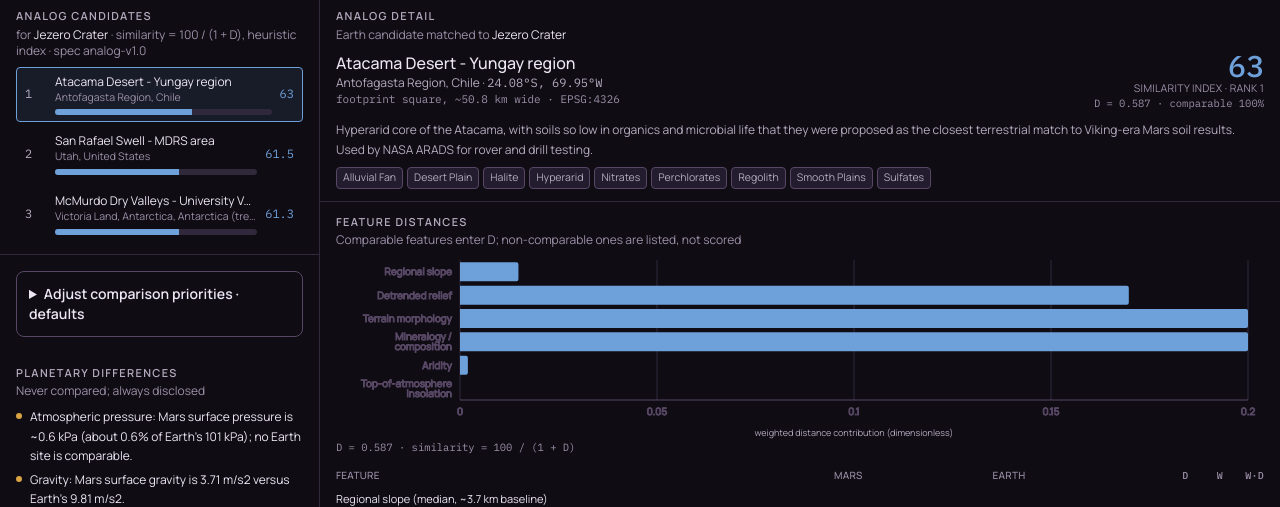
AnalogComparison research sections › separates documented analog use from proposed studies and never duplicates a campaign
The image size is (1280, 507).
Click the button "2 San Rafael Swell - MDRS area Utah, United States 61.5" at point(135, 141), box [16,126,303,182]
(page scrolled)
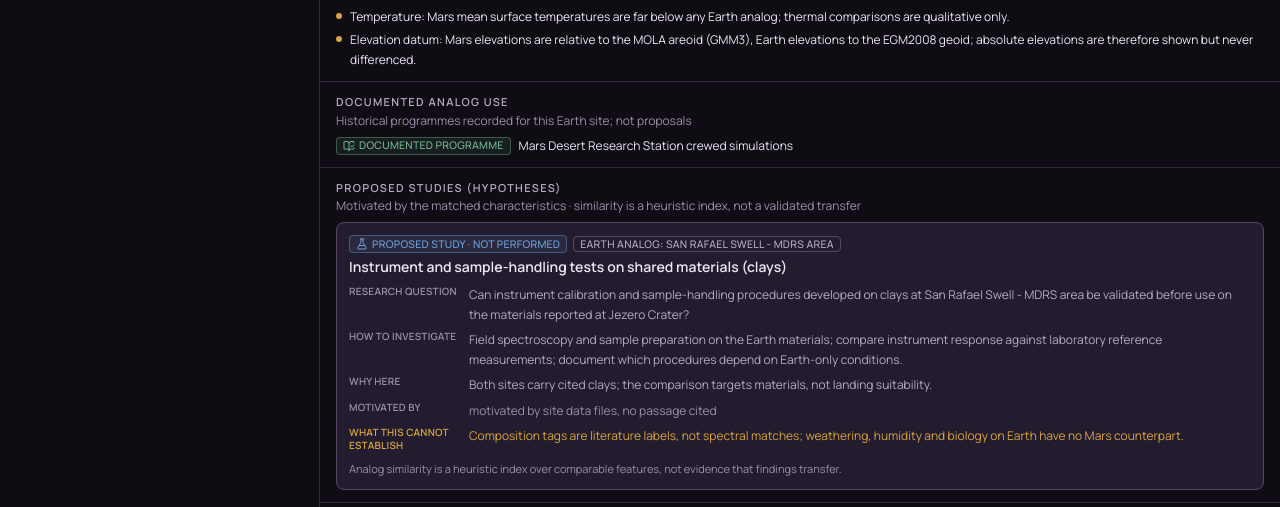
Expected: the list item with test id "study-card" does not show "Documented campaign", [336,222,1264,490]
Now the list item with test id "study-card" shows "Proposed study · not performed", box [372,237,560,251]
Now the list item with test id "study-card" shows "Instrument and sample-handling tests on shared materials (clays)", box [349,257,787,276]
